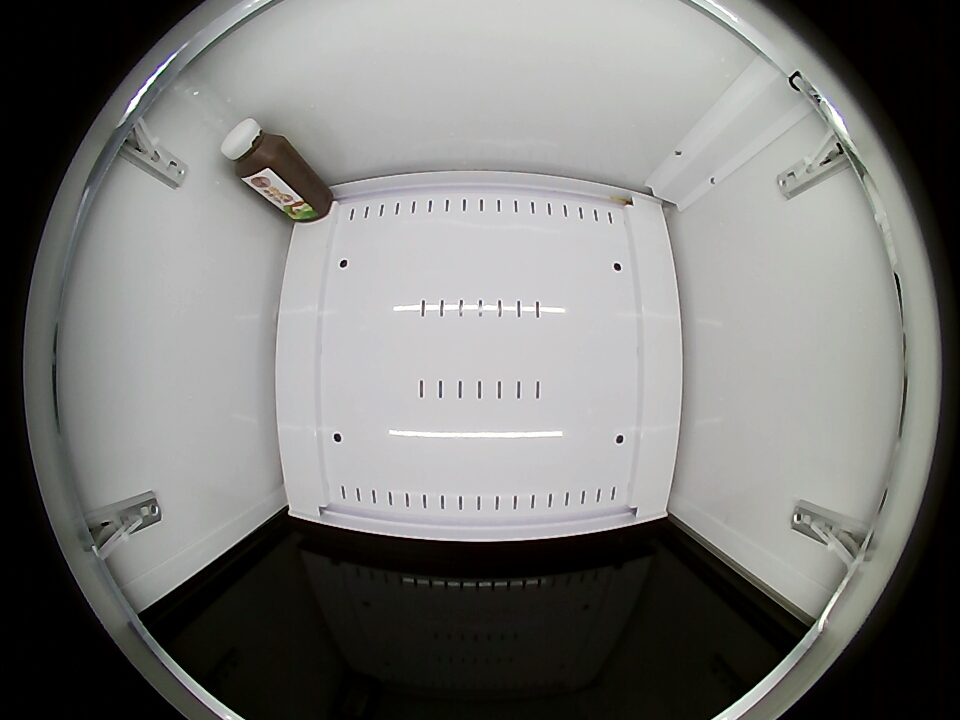youyanggudong: (221, 118, 284, 185)
